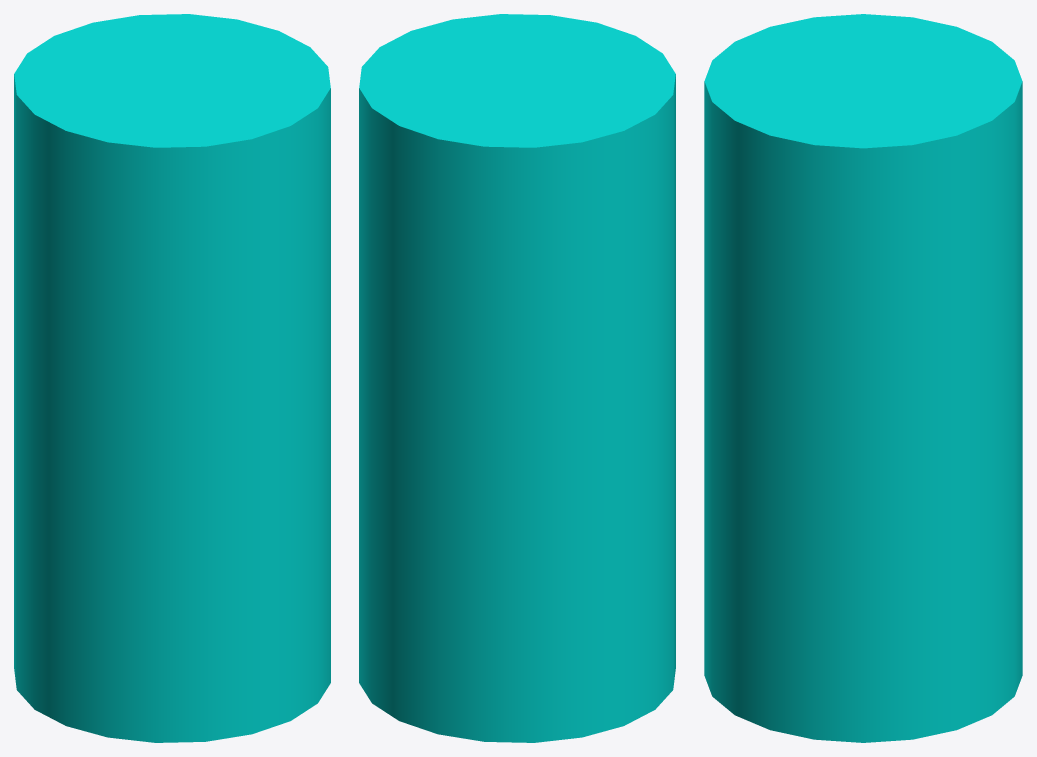
File: PipeBase.fbx
The picture shows the model from 3 angles, left to right: view 1: azimuth 30°, elevation 25°; view 2: azimuth 150°, elevation 25°; view 3: azimuth 270°, elevation 25°; orthographic projection.
Parts seen in each view (by area): view 1: polySurface9; view 2: polySurface9; view 3: polySurface9.
Part boxes in pixels (bbox=[...]): polySurface9: bbox=[14, 14, 330, 742]; polySurface9: bbox=[359, 14, 675, 742]; polySurface9: bbox=[704, 14, 1022, 742].
Size of the model in its own units: 1.21 by 2.5 by 1.21.
